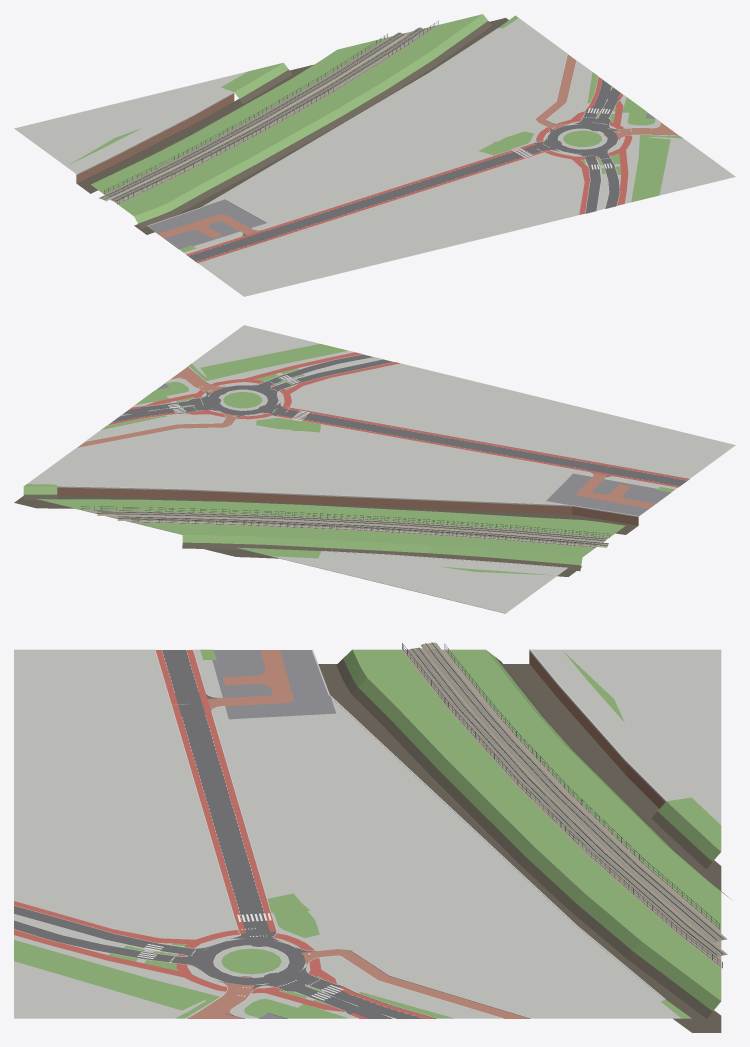
File: ground_11_5.glb
3 views of the same model, one above another, from view 1: azimuth 30°, elevation 25°; view 2: azimuth 150°, elevation 25°; view 3: azimuth 270°, elevation 25° (orthographic). The views are drawn at different scales.
Parts seen in each view (by area): view 1: ground_11_5; view 2: ground_11_5; view 3: ground_11_5.
Part boxes in pixels (x1,y1,x2,y2): ground_11_5: (14,14,735,296); ground_11_5: (14,325,735,613); ground_11_5: (14,642,731,1032).
Size of the model in its own units: 204 by 5.17 by 165.
